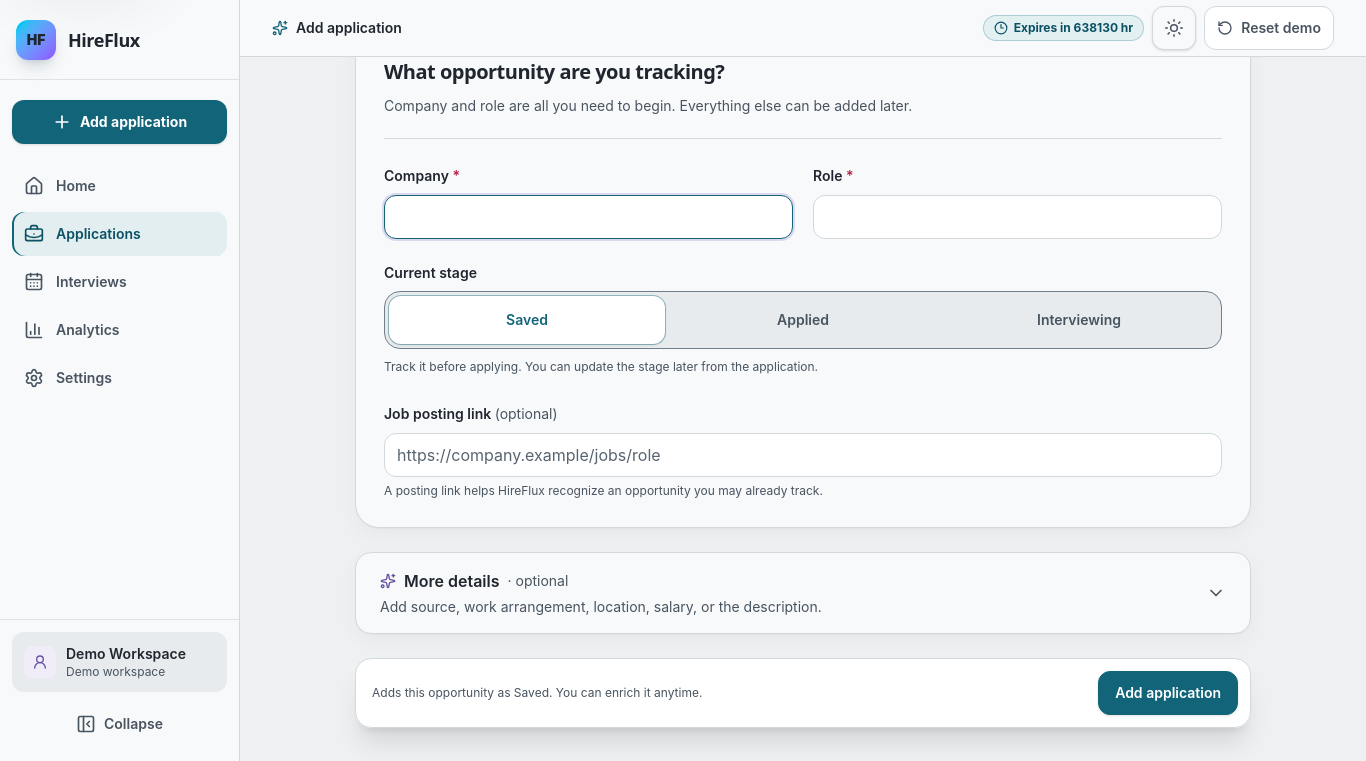
Test: application critical flow › uses natural source and remote-location labels in More details
The width and height of the screenshot is (1366, 761).
(page scrolled)
Click the heading "More details": (452, 581) top-left (380, 571), bottom-right (1226, 615)
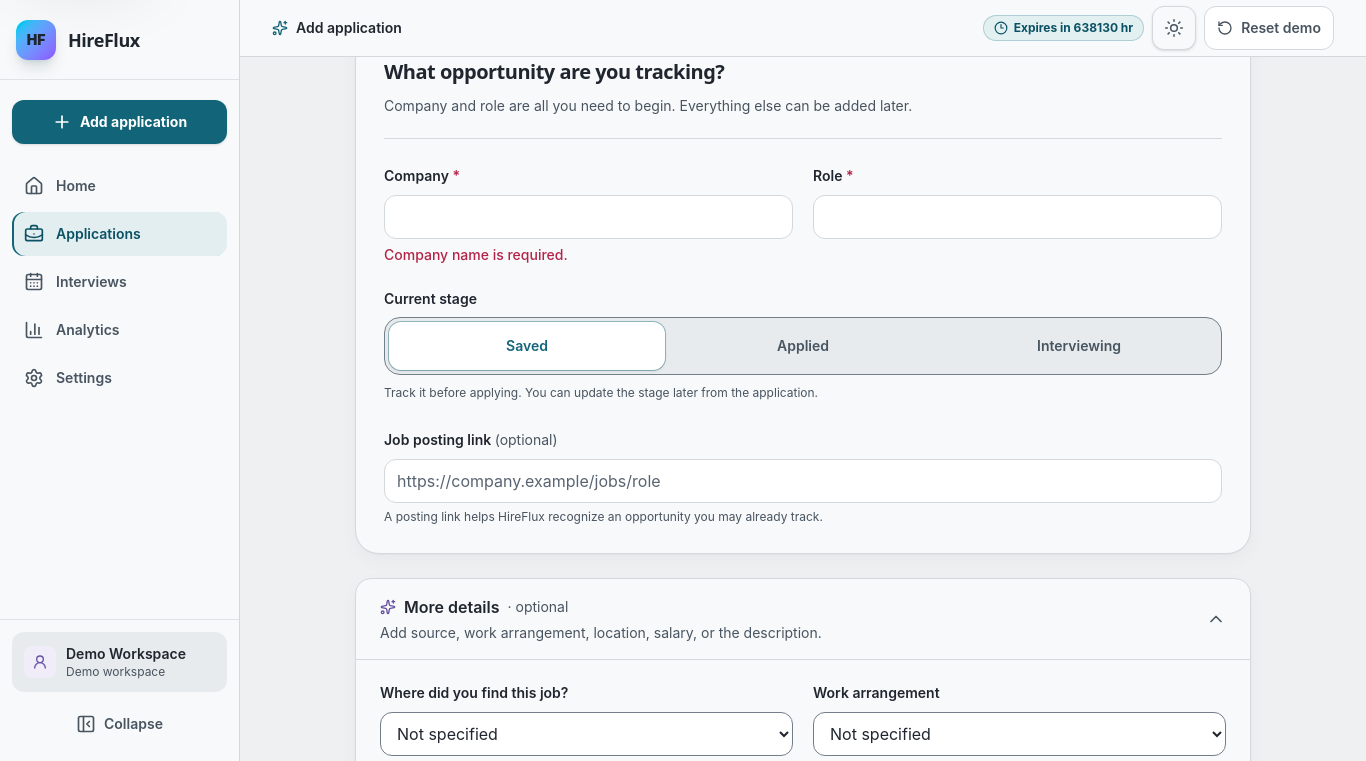
Select "Recruiter" in the dropdown labelled "Where did you find this job?": (586, 734) top-left (380, 712), bottom-right (793, 756)
(page scrolled)
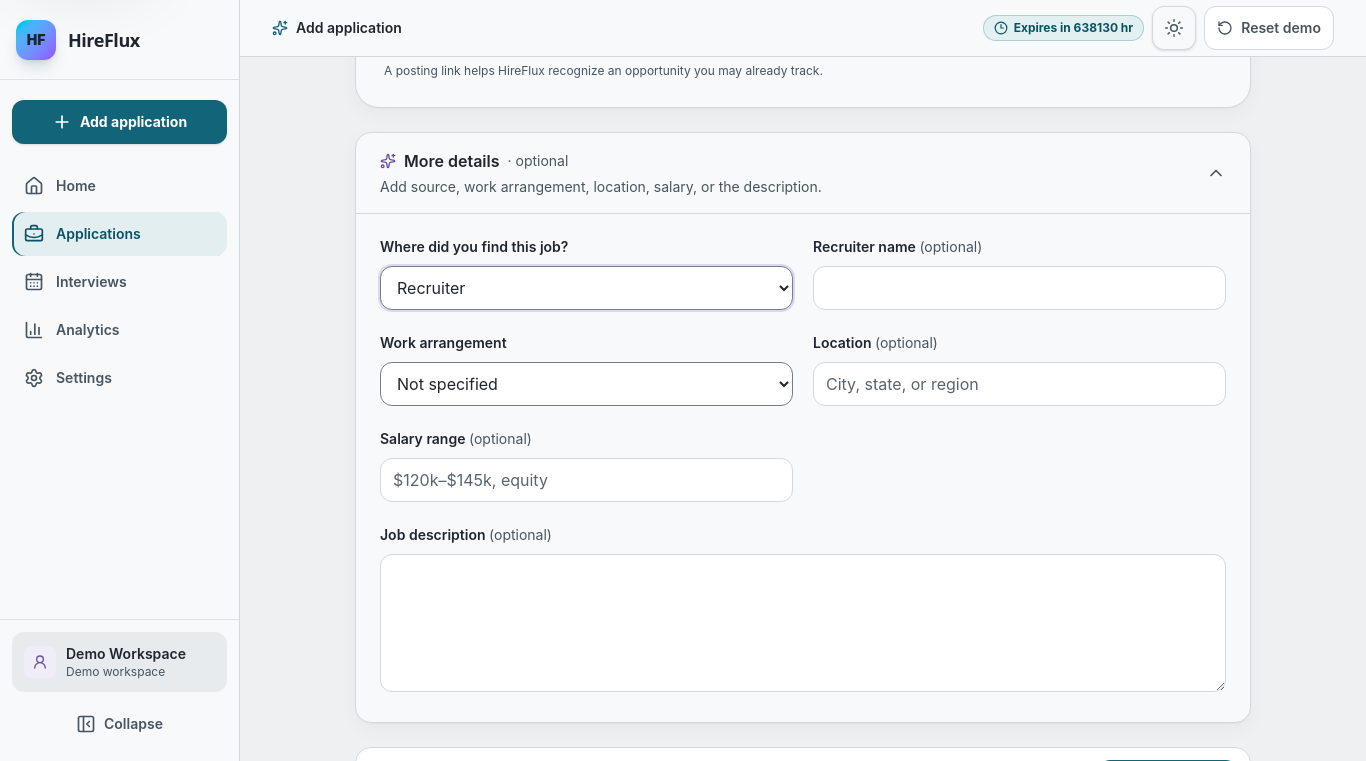
Check: the field labelled "Recruiter name (optional)" is shown, box top-left (813, 266), bottom-right (1226, 310)
Select "Remote" in the dropdown labelled "Work arrangement": (586, 384) top-left (380, 362), bottom-right (793, 406)
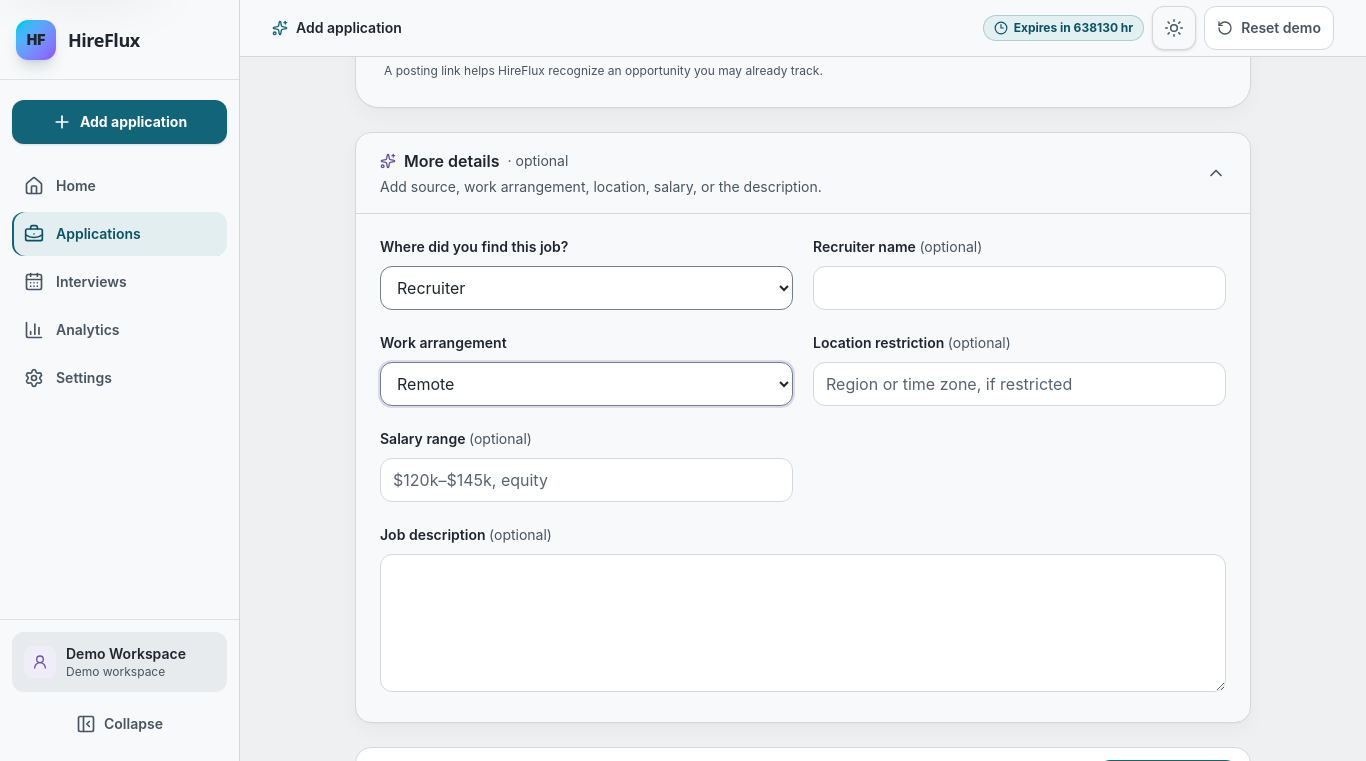
Check: the field labelled "Location restriction (optional)" is shown, box top-left (813, 362), bottom-right (1226, 406)
Select "Company website" in the dropdown labelled "Where did you find this job?": (586, 288) top-left (380, 266), bottom-right (793, 310)
(page scrolled)
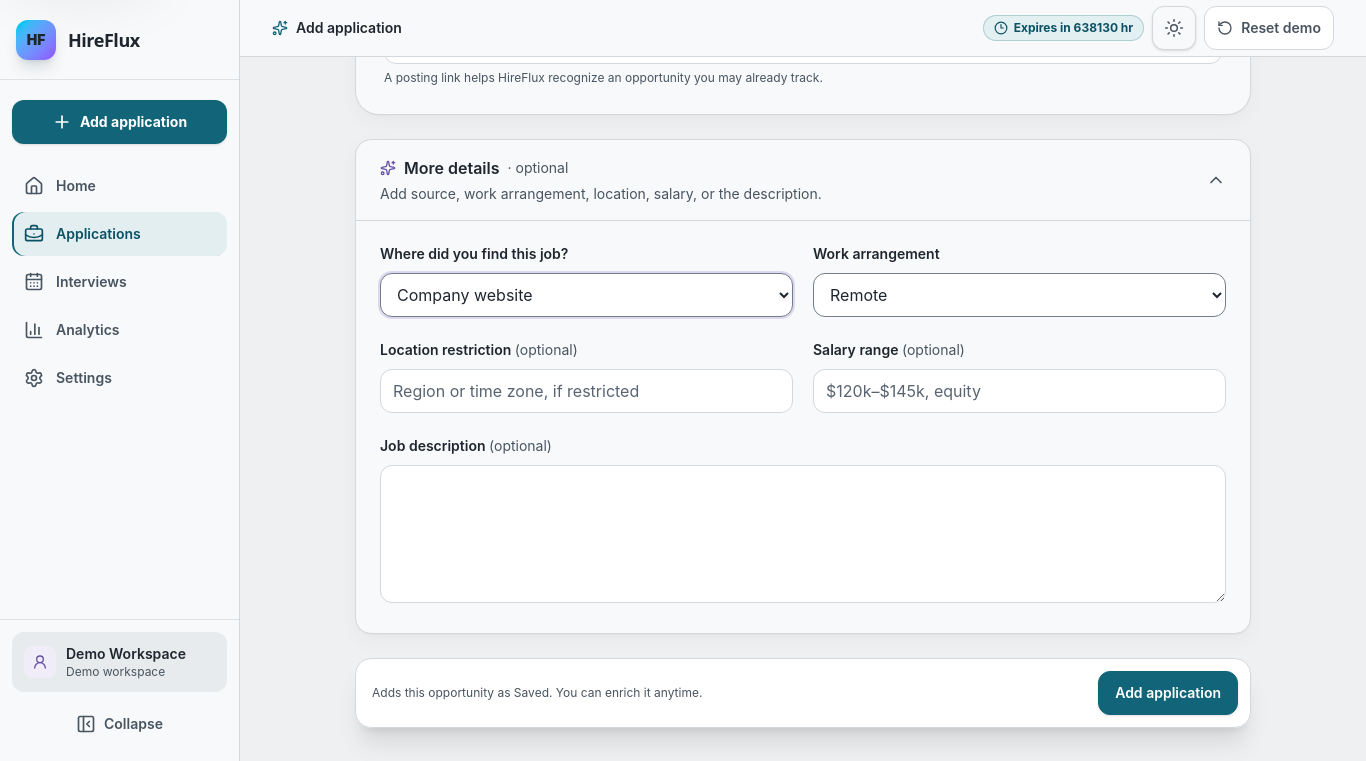
Check: the label labelled "Recruiter name" is gone
